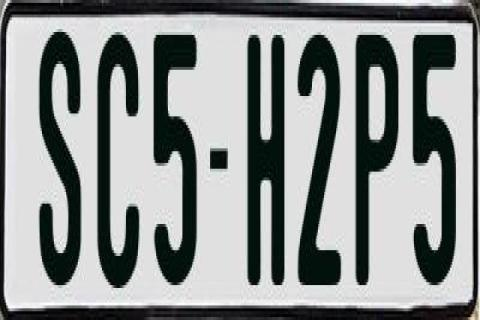0: (410, 26, 460, 282), (296, 29, 340, 285), (153, 35, 197, 288)
C: (96, 26, 139, 288)
H: (246, 32, 284, 285)
P: (352, 27, 402, 280)
S: (40, 29, 80, 288)
